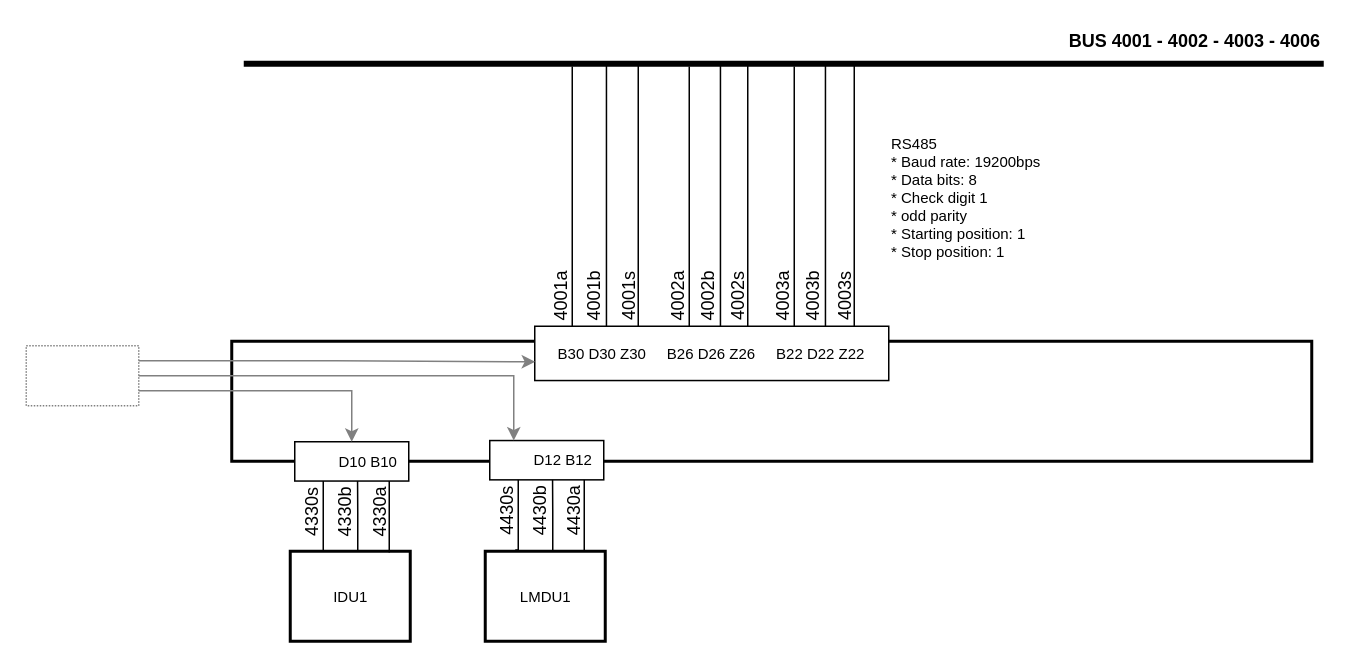
Image size: 1353x668. Some labels were removed from this diagram. Here are the shapes that lost their labels. From the top down, the box of each, then its label:
(25, 344, 139, 406): IO 48P Harding Conn
(230, 339, 1312, 462): Unidad de Control de Salón SCU
